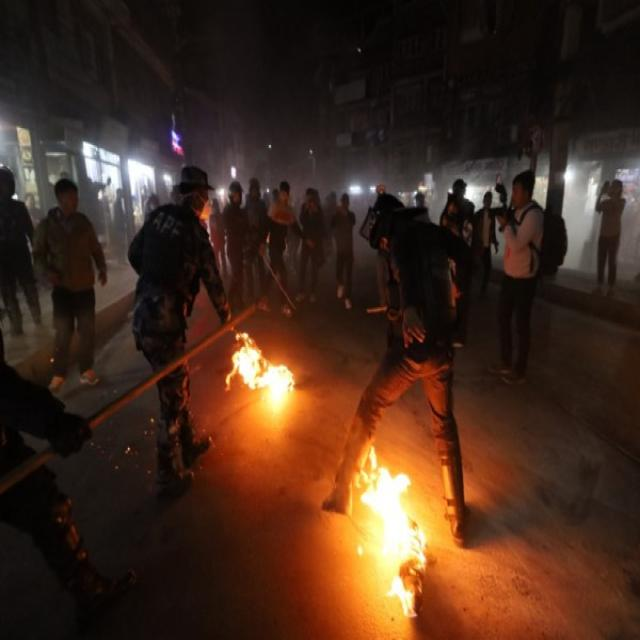fire: (356, 447, 427, 617), (224, 329, 294, 399)
